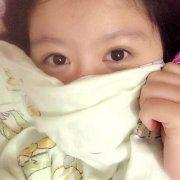OK: (30, 5, 164, 150)
